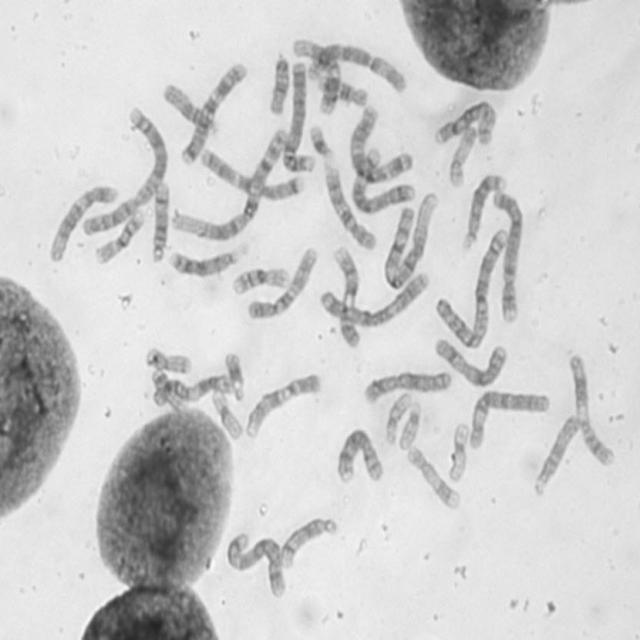A1: (167, 128, 289, 241), (382, 188, 439, 292)
A2: (81, 106, 168, 237), (436, 226, 509, 349)
A3: (318, 270, 431, 326), (348, 104, 414, 184)
B4: (491, 189, 524, 324), (282, 61, 317, 173)
B5: (349, 146, 416, 212), (226, 532, 285, 599)
C10: (247, 244, 319, 321), (321, 163, 377, 251)
C11: (568, 350, 615, 468), (151, 374, 231, 406)
C12: (48, 186, 118, 263), (293, 39, 341, 114)
C6: (307, 41, 408, 93), (470, 390, 550, 450)
C7: (178, 63, 248, 169), (199, 148, 303, 201)
C8: (332, 426, 384, 484), (433, 100, 498, 145)
C9: (244, 372, 321, 438), (330, 244, 361, 351)
D13: (463, 174, 508, 249), (167, 242, 250, 276)
D14: (280, 518, 334, 570), (150, 179, 170, 263)
D15: (530, 415, 580, 498), (162, 82, 220, 138)
E16: (95, 208, 146, 264), (230, 268, 289, 295)
E17: (405, 444, 460, 510), (448, 125, 478, 188)
E18: (317, 74, 368, 107), (270, 56, 289, 115)
F19: (210, 388, 243, 441), (446, 420, 471, 482)
F20: (150, 368, 185, 411), (143, 346, 192, 374)
G21: (225, 350, 245, 402), (308, 126, 336, 160)
G22: (385, 392, 413, 446), (398, 401, 422, 451)
X: (433, 336, 508, 388), (364, 371, 453, 404)
